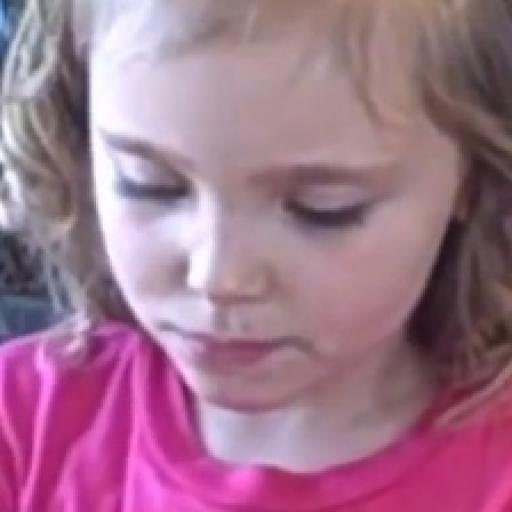Autism: (68, 0, 512, 508)
